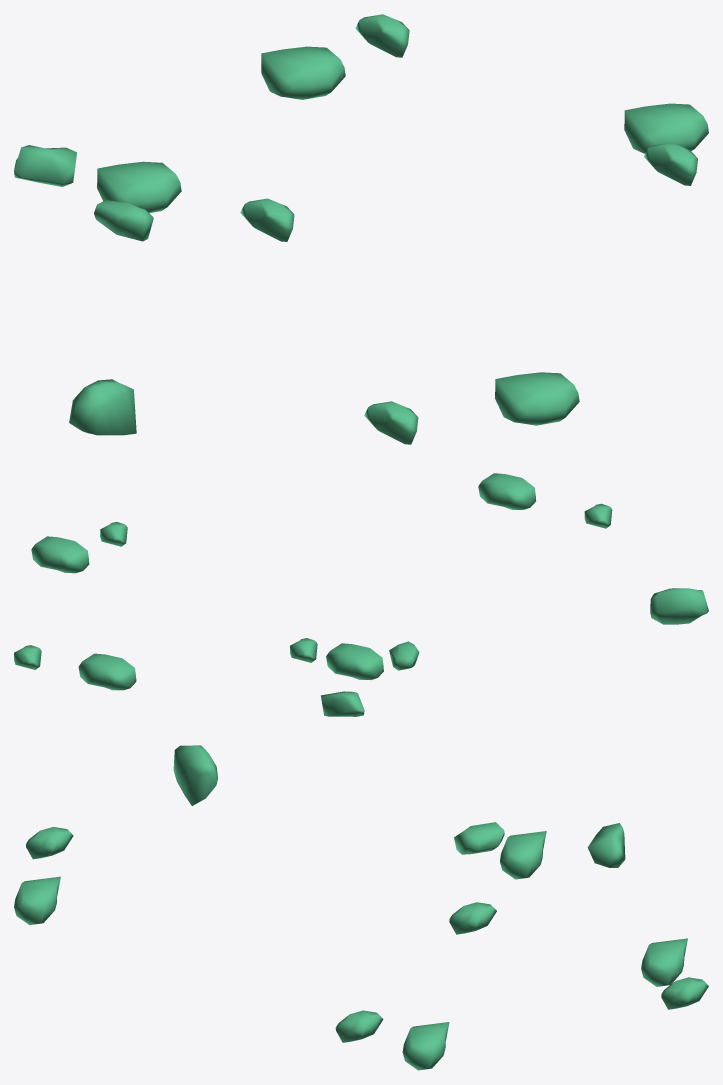
The model's file is Floor_Break_C_01B_Lod0.fbx.
The picture shows the model from 3 angles, top to bottom: view 1: azimuth 30°, elevation 25°; view 2: azimuth 150°, elevation 25°; view 3: azimuth 270°, elevation 25°; orthographic projection. The views are drawn at different scales.
Visible parts, largest first — view 1: Floor_Break_C_01B_Lod0; view 2: Floor_Break_C_01B_Lod0; view 3: Floor_Break_C_01B_Lod0.
Part boxes in pixels (<box>): Floor_Break_C_01B_Lod0: <box>14,14,708,444</box>; Floor_Break_C_01B_Lod0: <box>14,473,708,716</box>; Floor_Break_C_01B_Lod0: <box>14,745,708,1070</box>.
Size of the model in its own units: 404 by 32.78 by 390.
